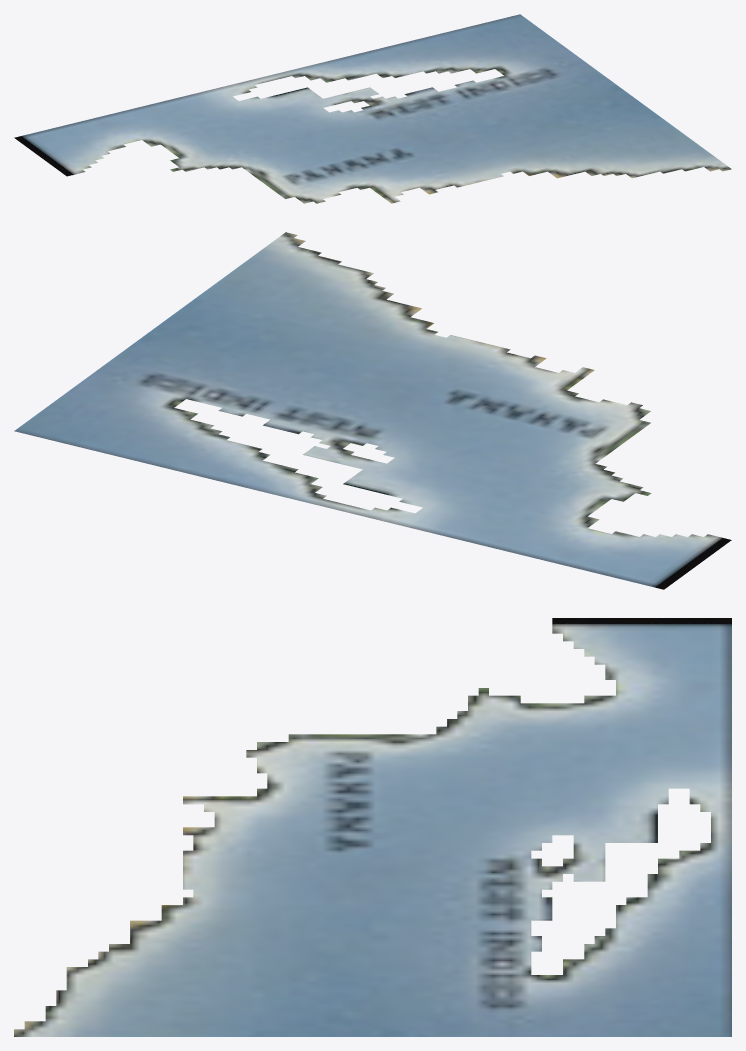
The model's file is western-panama-sea.gltf.
3 renders of one model, top to bottom at view 1: azimuth 30°, elevation 25°; view 2: azimuth 150°, elevation 25°; view 3: azimuth 270°, elevation 25°, orthographic. The views are drawn at different scales.
Visible parts, largest first — view 1: Plane; view 2: Plane; view 3: Plane.
Boxes of the visible parts, x1,y1,x2,y2 form: Plane: (14,14,731,203); Plane: (14,232,731,589); Plane: (14,618,731,1036).
Size of the model in its own units: 0.5331 by 0 by 0.3862.
Materials: 1 (1 with a texture image).
